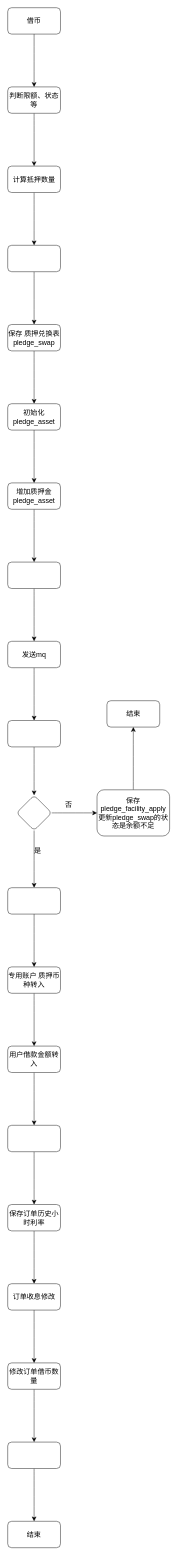
Some shapes in this 177 by 1555 pixel diagram are drawn without their labels. Each missing label, with the centre of its shape:
"专用账户 借款币种转出" belongs at point 33,900.
"专项账户金额是否足够" belongs at point 34,812.
"保存pledge_order" belongs at point 33,258.
"修改pledge_asset贷款数量" belongs at point 33,1455.
"修改pledge_swap状态 已付款" belongs at point 33,1138.
"用户资产冻结 记录流水 用户资金是直接直接扣减" belongs at point 33,575.
"质押处理" belongs at point 33,733.
